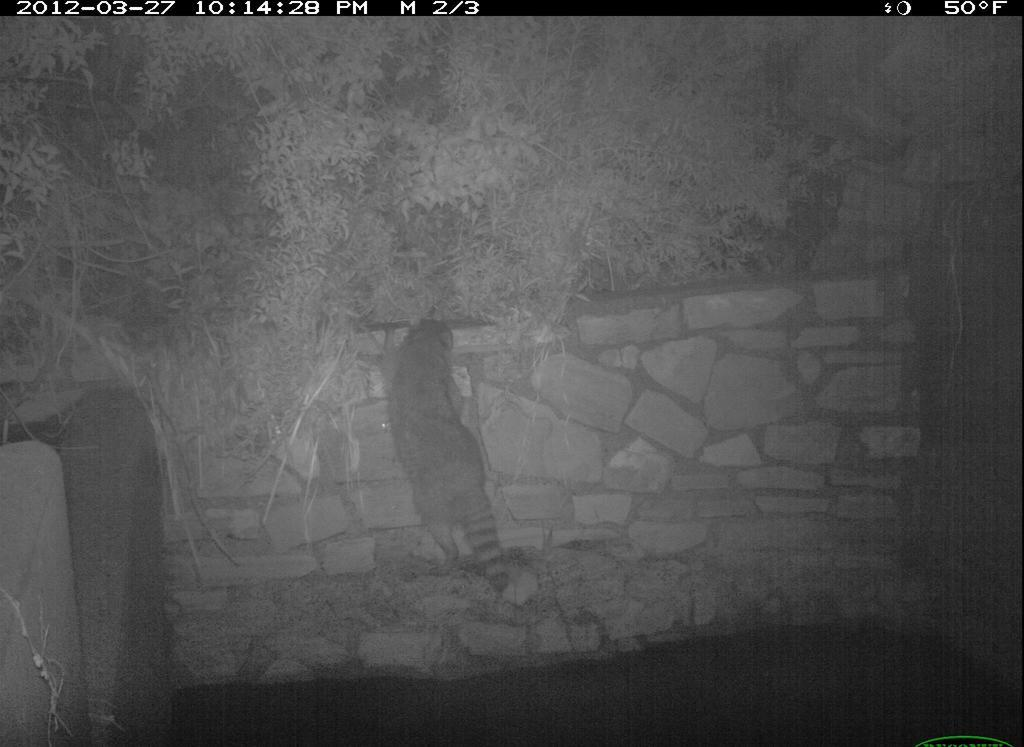raccoon: (385, 299, 528, 596)
